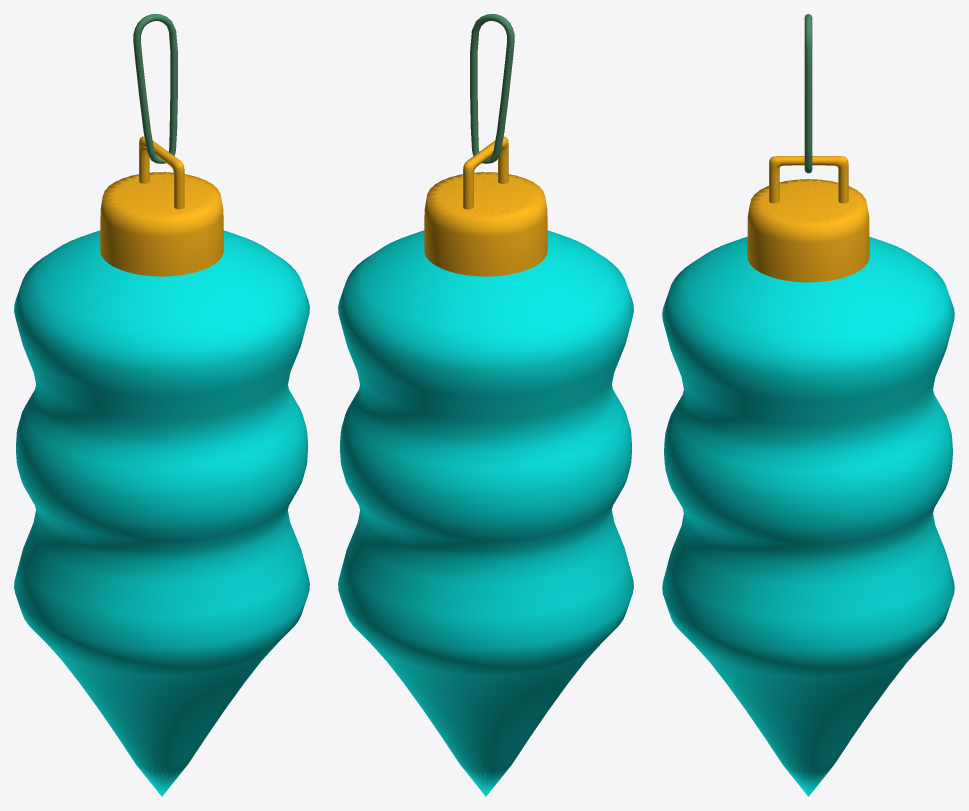
The model's file is ornaments4.fbx.
The picture shows the model from 3 angles, left to right: view 1: azimuth 30°, elevation 25°; view 2: azimuth 150°, elevation 25°; view 3: azimuth 270°, elevation 25°; orthographic projection.
Visible parts, largest first — view 1: Sphere.003; view 2: Sphere.003; view 3: Sphere.003.
Boxes of the visible parts, bbox=[...] form: Sphere.003: bbox=[14, 14, 309, 796]; Sphere.003: bbox=[338, 14, 633, 796]; Sphere.003: bbox=[662, 14, 954, 796].
Size of the model in its own units: 13 by 38.03 by 13.
